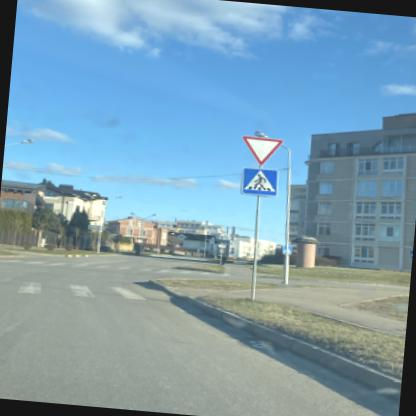crosswalk: (238, 165, 276, 195)
